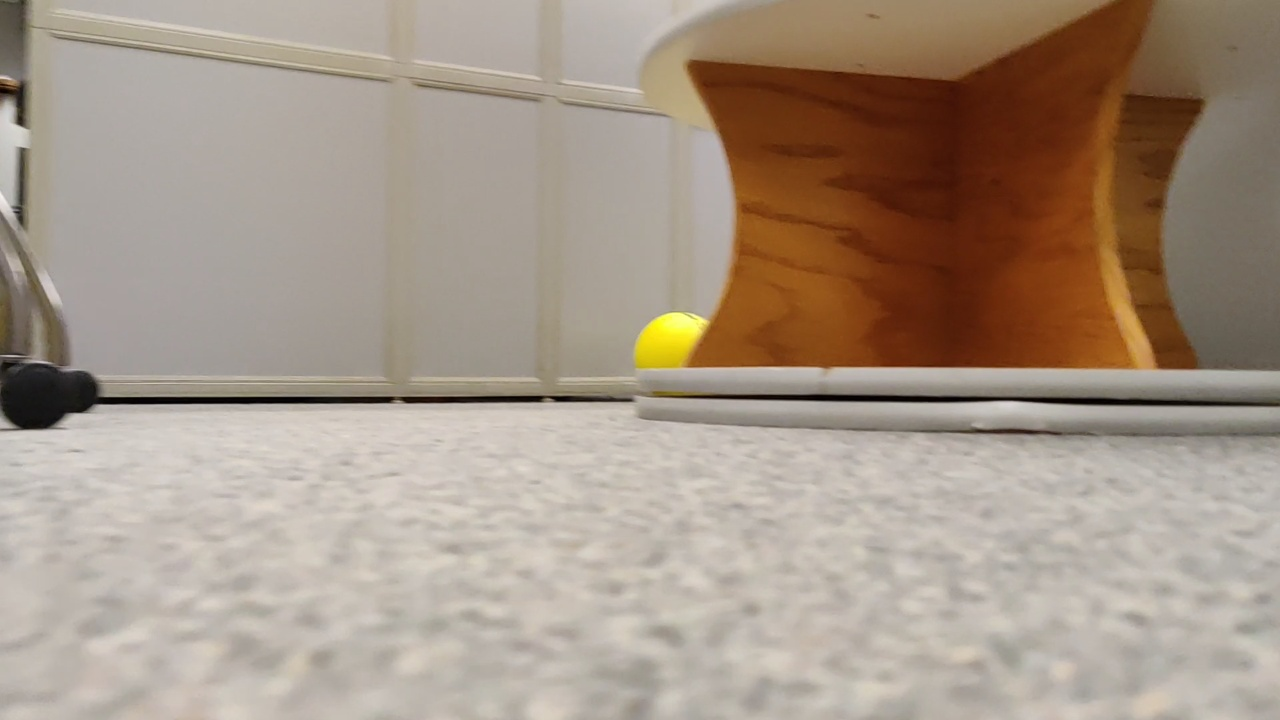Ball: (634, 312, 703, 378)
